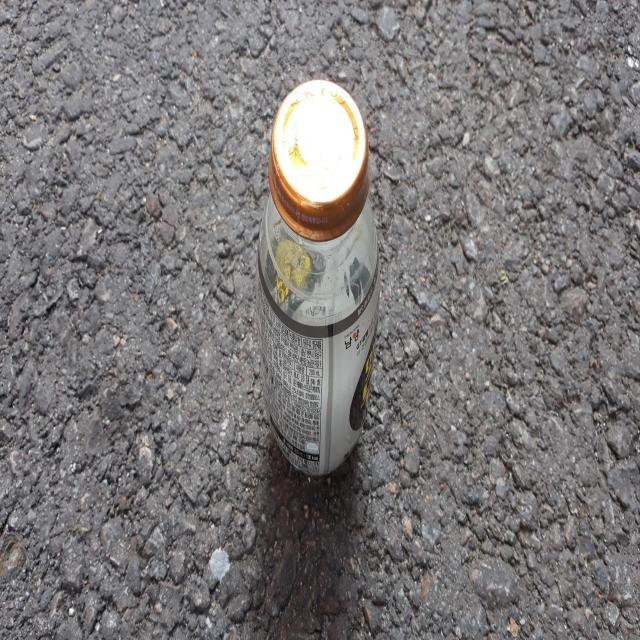glass: (256, 78, 380, 475)
